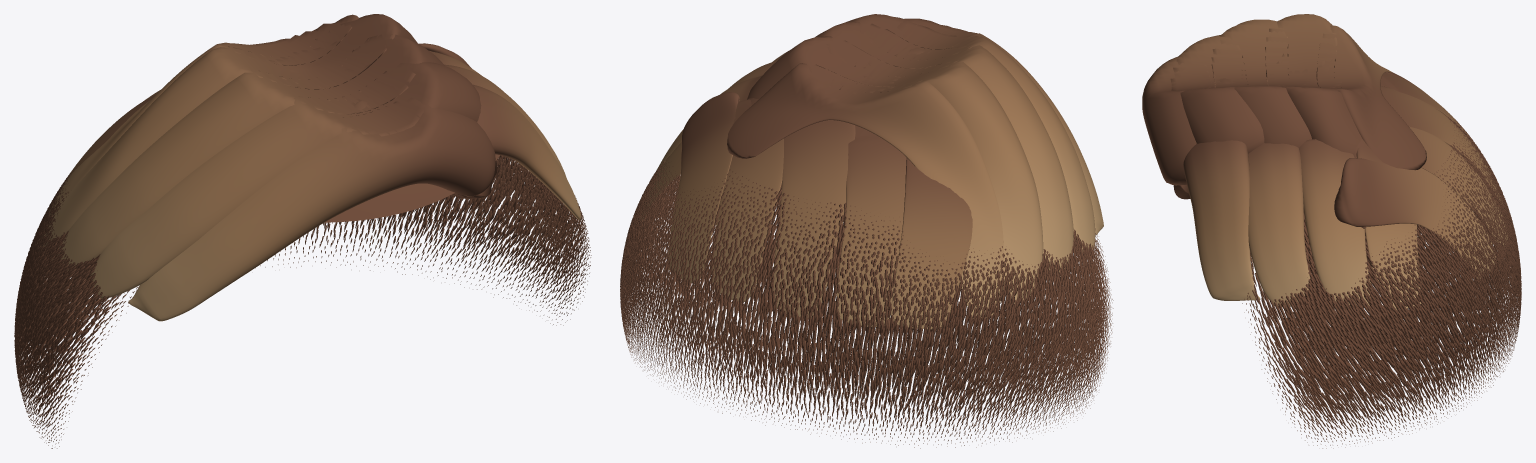
File: Masculine-taper-cowboy254-hair-ombre.glb
3 renders of one model, left to right at view 1: azimuth 30°, elevation 25°; view 2: azimuth 150°, elevation 25°; view 3: azimuth 270°, elevation 25°, orthographic. The views are drawn at different scales.
Visible parts, largest first — view 1: 226 hair / Hair252 / sculpted locks, 226 hair / Hair252 / gentle tonal variation, 226 hair / Hair254 / rooted short groom; view 2: 226 hair / Hair252 / sculpted locks, 226 hair / Hair254 / rooted short groom, 226 hair / Hair252 / gentle tonal variation; view 3: 226 hair / Hair252 / sculpted locks, 226 hair / Hair254 / rooted short groom, 226 hair / Hair252 / gentle tonal variation.
Part boxes in pixels (left/top/right/bottom): 226 hair / Hair252 / sculpted locks: left=37, top=14, right=565, bottom=298; 226 hair / Hair252 / gentle tonal variation: left=128, top=84, right=581, bottom=321; 226 hair / Hair254 / rooted short groom: left=14, top=154, right=591, bottom=448; 226 hair / Hair252 / sculpted locks: left=640, top=14, right=1095, bottom=329; 226 hair / Hair254 / rooted short groom: left=620, top=156, right=1113, bottom=448; 226 hair / Hair252 / gentle tonal variation: left=772, top=18, right=1103, bottom=326; 226 hair / Hair252 / sculpted locks: left=1170, top=14, right=1507, bottom=309; 226 hair / Hair254 / rooted short groom: left=1242, top=108, right=1521, bottom=448; 226 hair / Hair252 / gentle tonal variation: left=1142, top=56, right=1470, bottom=300.
Size of the model in its own units: 0.9716 by 0.639 by 0.7405.
